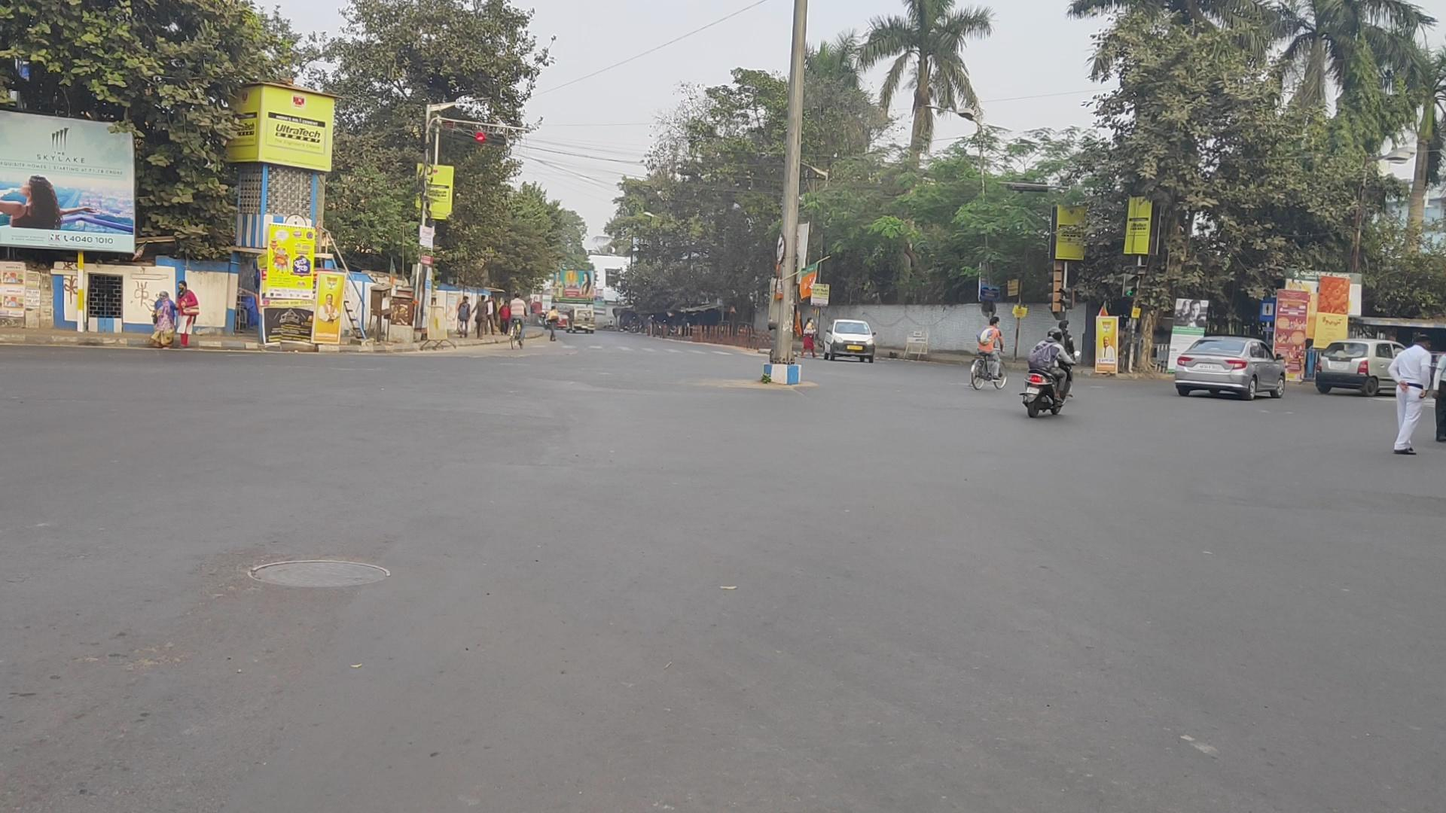bike: (1020, 327, 1081, 419), (967, 317, 1008, 391), (507, 292, 528, 349), (799, 317, 819, 359)
car: (1174, 335, 1286, 401), (1315, 337, 1437, 397), (823, 318, 877, 364), (566, 307, 596, 333)
